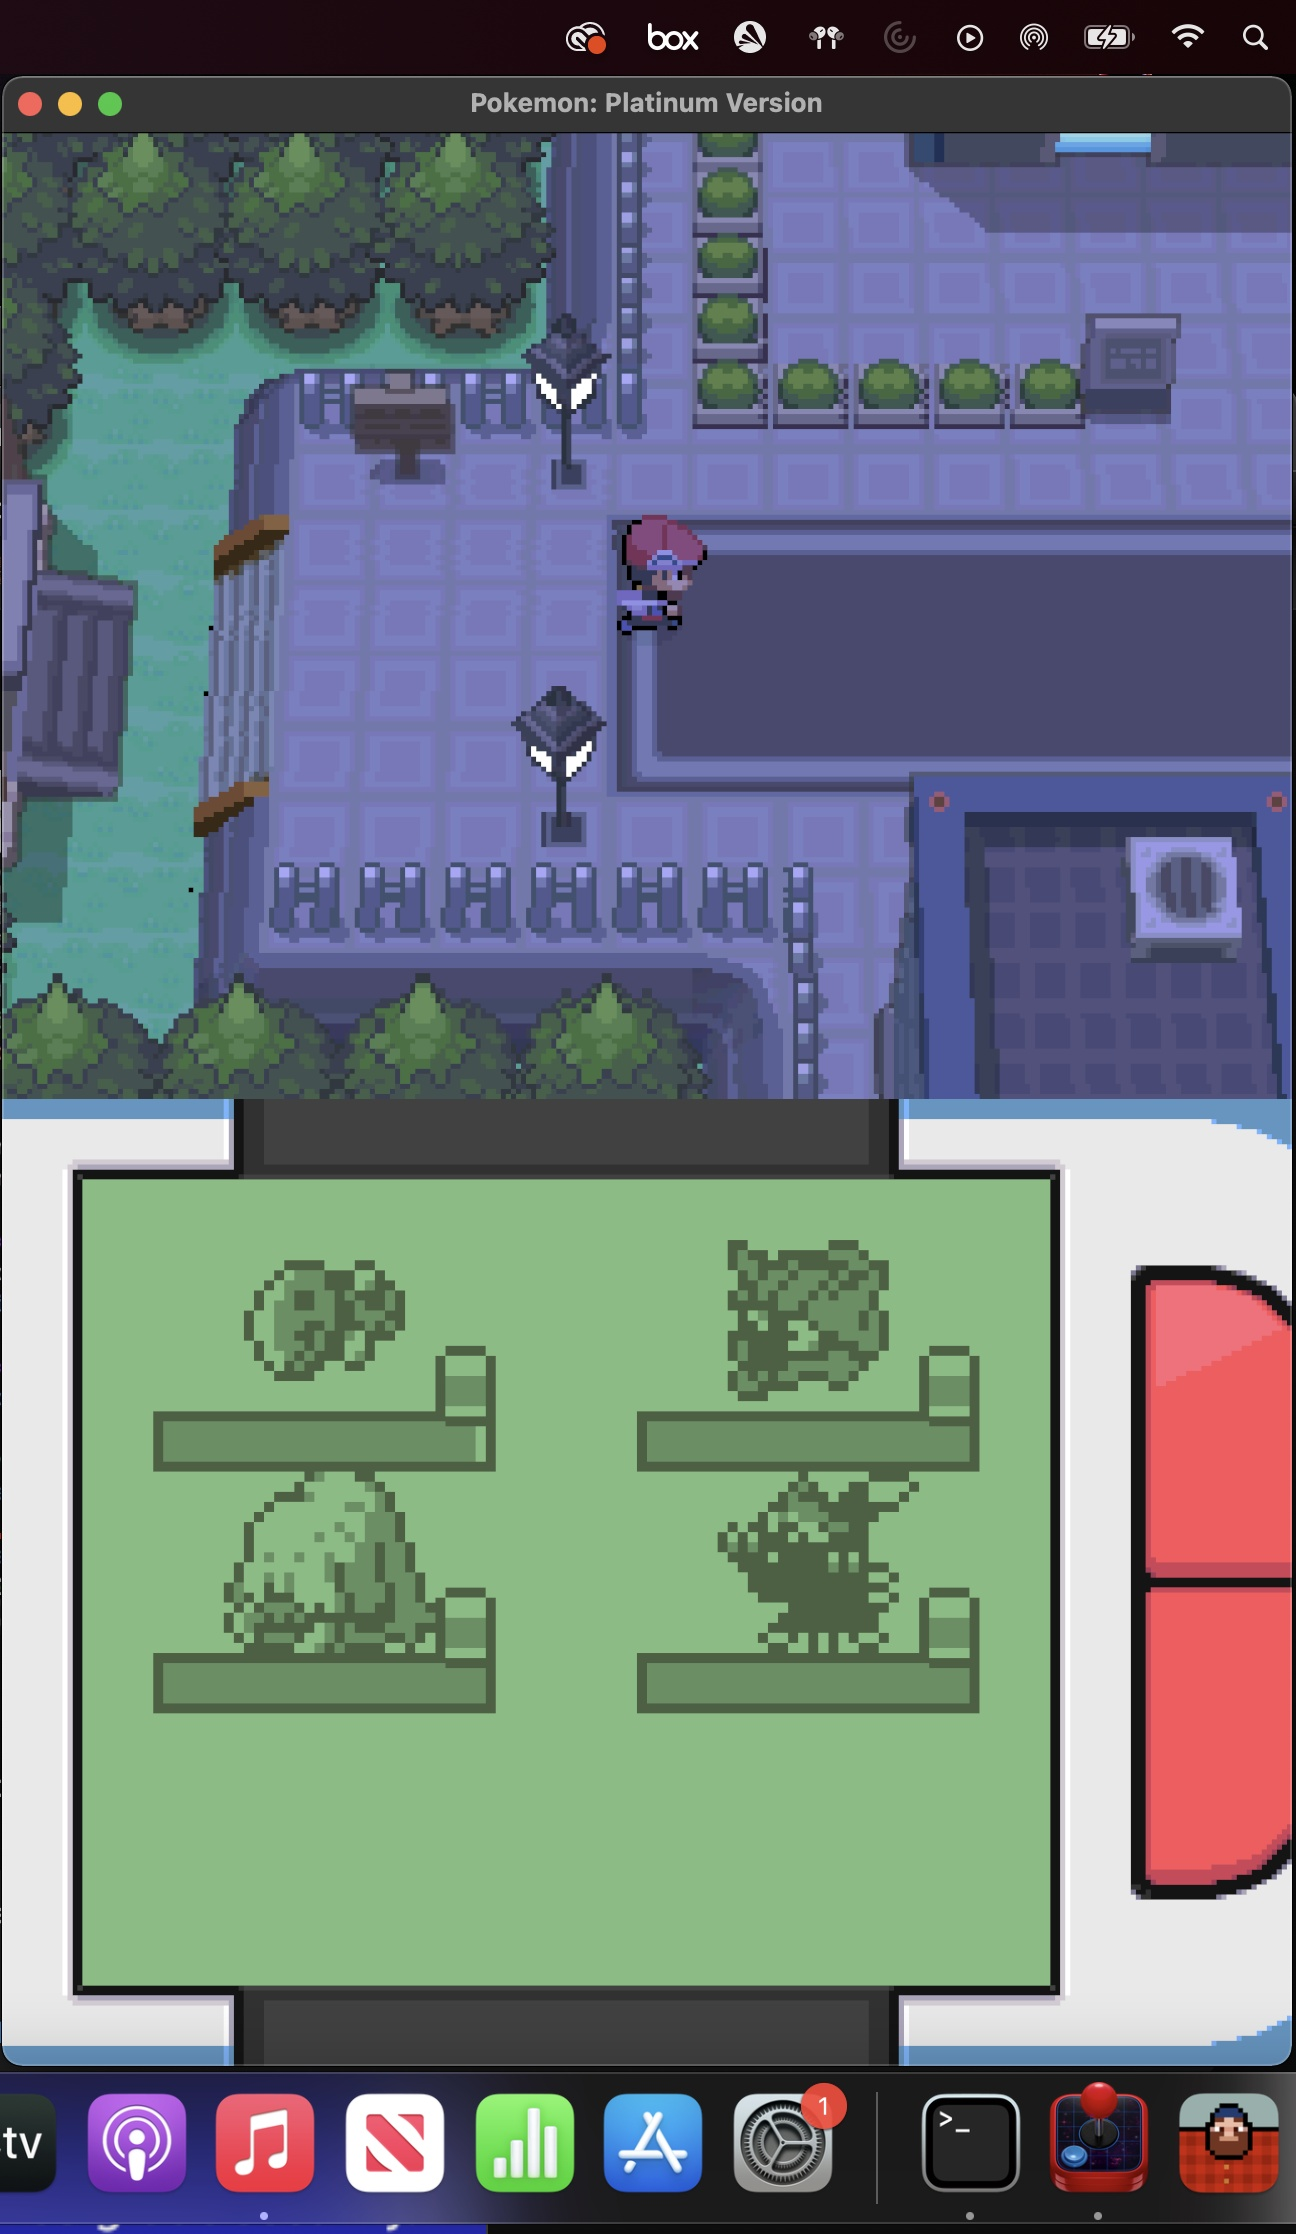player: (614, 500, 710, 647)
turn right: (327, 322, 616, 509)
